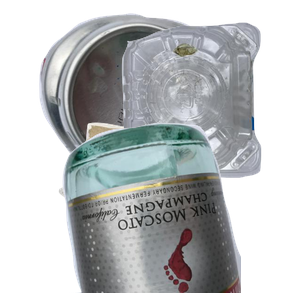glass: (60, 120, 300, 300)
metal: (37, 11, 261, 180)
plastic: (119, 20, 300, 190)
trash: (56, 120, 247, 300)
